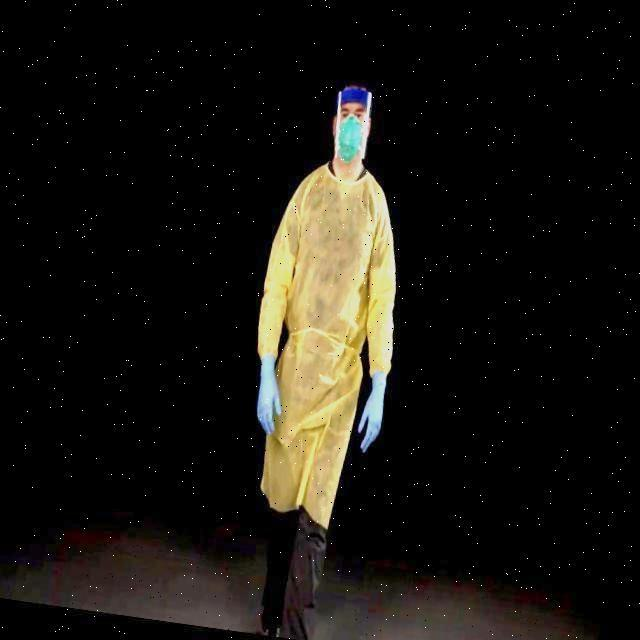mask: (337, 119, 362, 163)
no_gloves: (328, 72, 384, 102)
